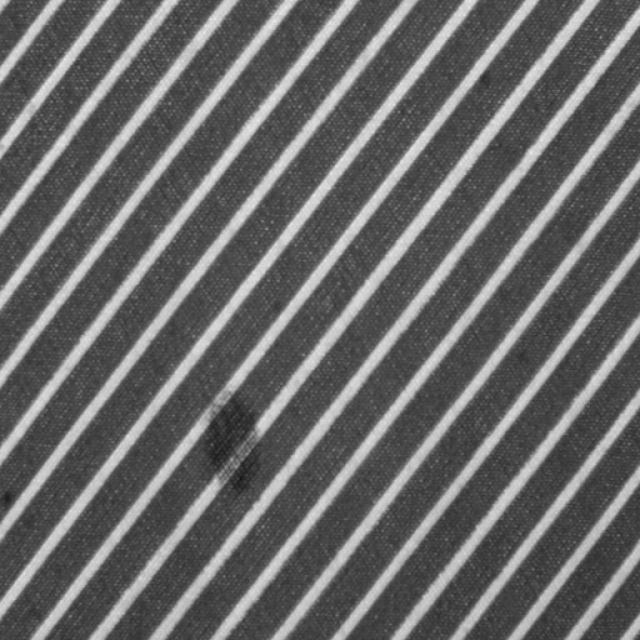Stain-Defect: (199, 392, 260, 490)
